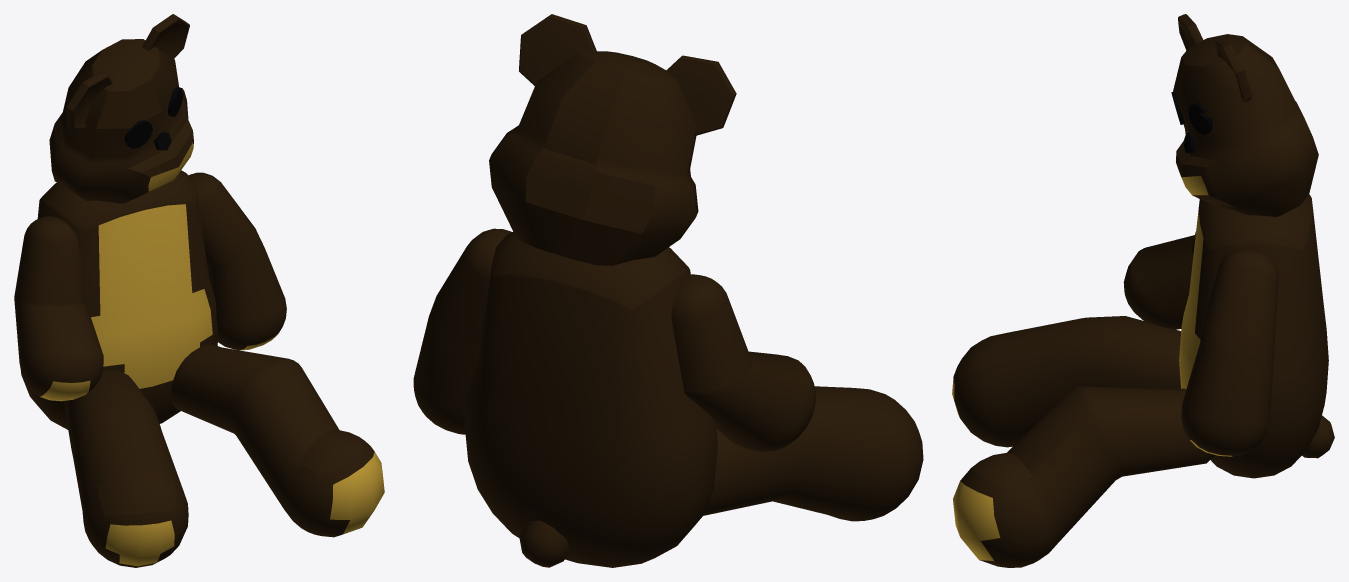
File: EddyTheTeddy.FBX
The picture shows the model from 3 angles, left to right: view 1: azimuth 30°, elevation 25°; view 2: azimuth 150°, elevation 25°; view 3: azimuth 270°, elevation 25°; orthographic projection. The views are drawn at different scales.
Parts seen in each view (by area): view 1: EddyTheReadyToGetSomeBettySheddyTeddy; view 2: EddyTheReadyToGetSomeBettySheddyTeddy; view 3: EddyTheReadyToGetSomeBettySheddyTeddy.
Part boxes in pixels (x1=…): EddyTheReadyToGetSomeBettySheddyTeddy: x1=14, y1=14, x2=384, y2=567; EddyTheReadyToGetSomeBettySheddyTeddy: x1=413, y1=14, x2=923, y2=567; EddyTheReadyToGetSomeBettySheddyTeddy: x1=952, y1=14, x2=1334, y2=567.
Bounding box in the file's own units: 107 × 160 × 113.
